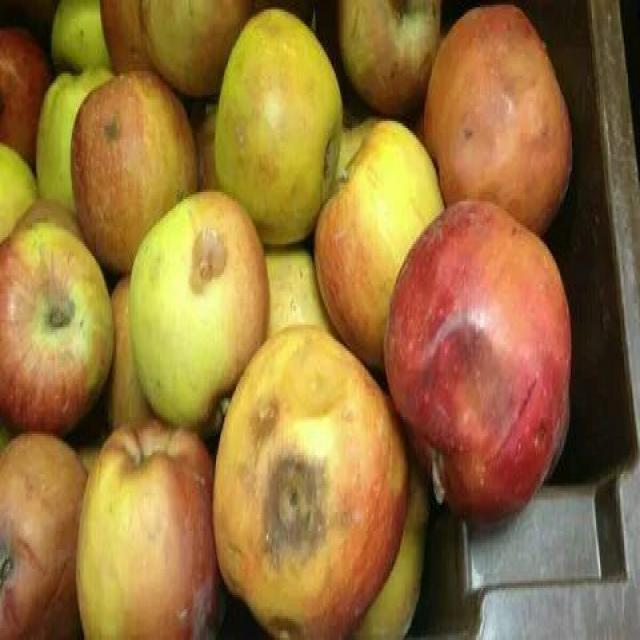Fresh Apple: (7, 230, 115, 422)
Rotten: (218, 334, 415, 618), (400, 198, 570, 512), (135, 200, 262, 397)
